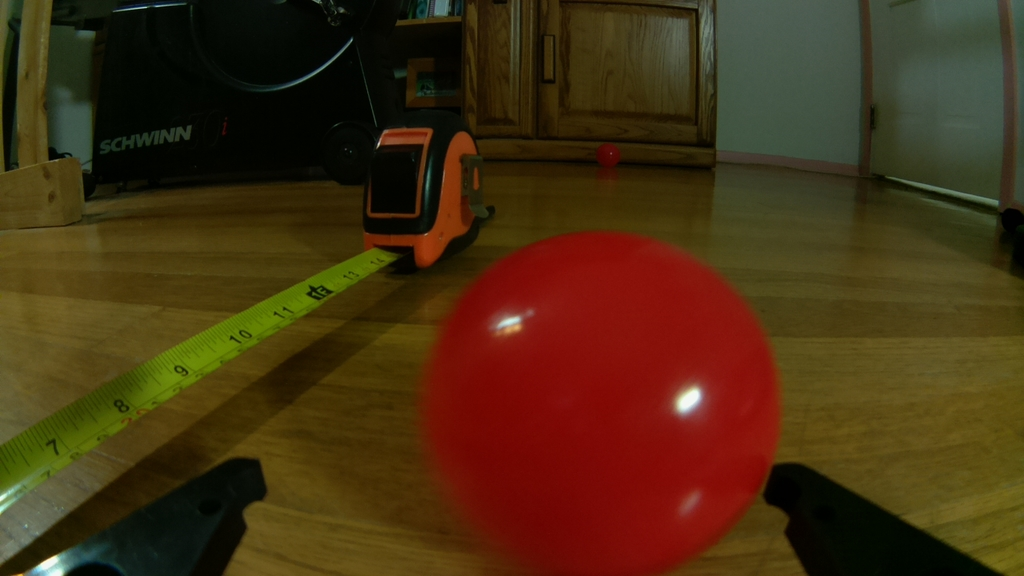ball: (412, 227, 788, 576)
